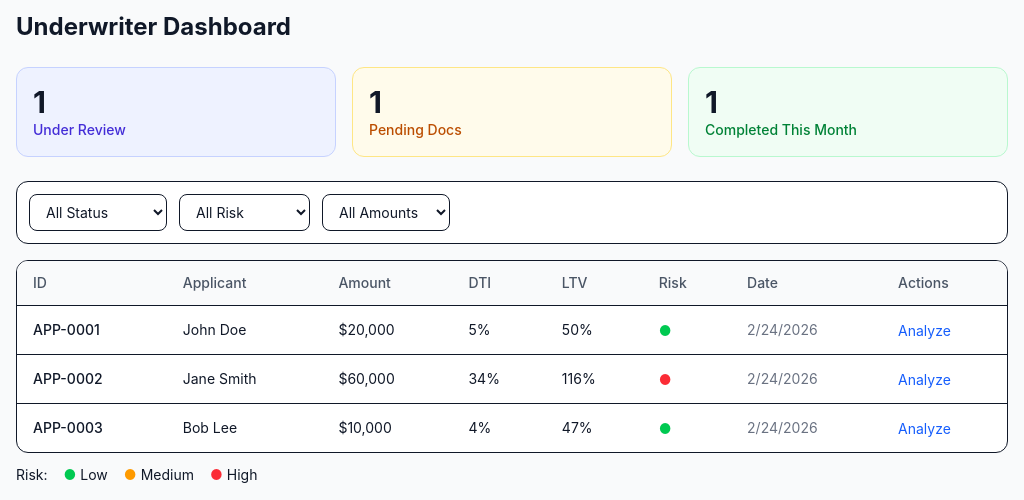
Test: UnderwriterDashboard › filters by status
Expected: the element with test id "filters" is shown, [16,181,1008,244]
Select "Under Review" in the dropdown named "Status filter" at (98, 212), box [29,194,167,231]
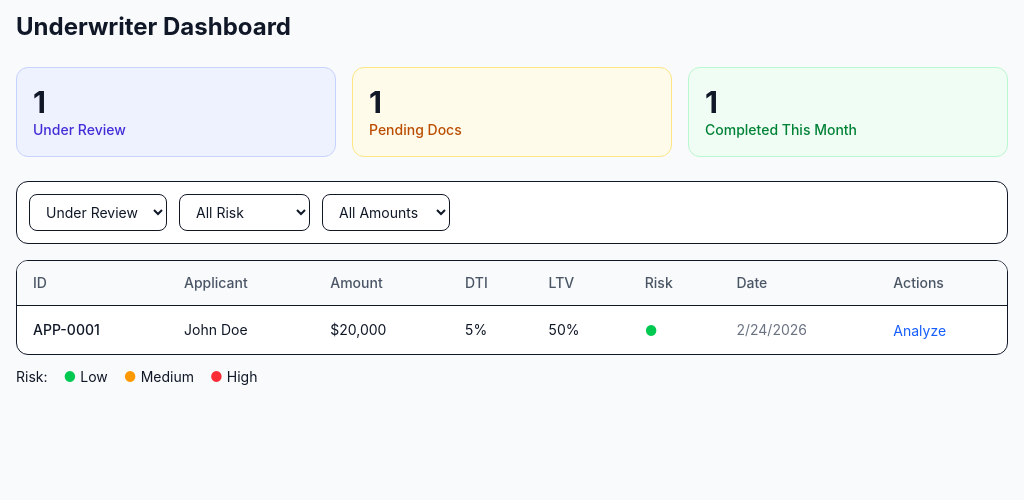
Expected: the number of rows with test id "app-row" is 1, [17,306,1007,354]
